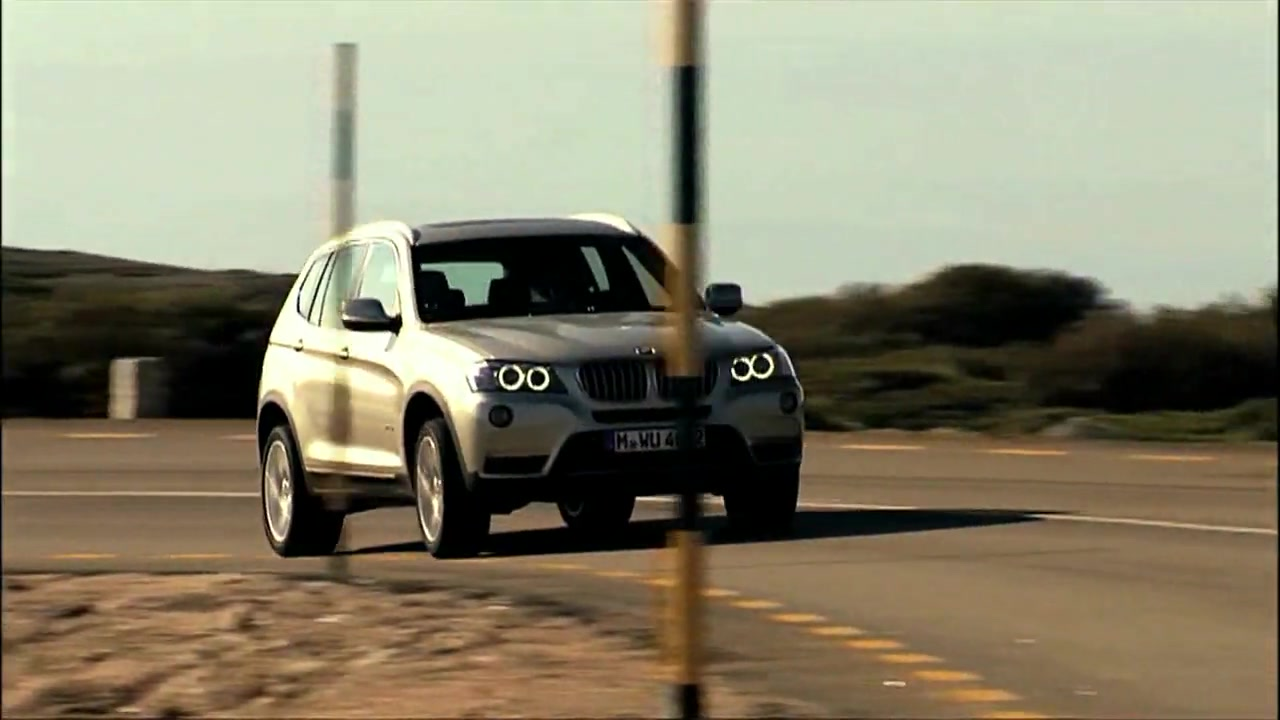car: (255, 213, 806, 562)
